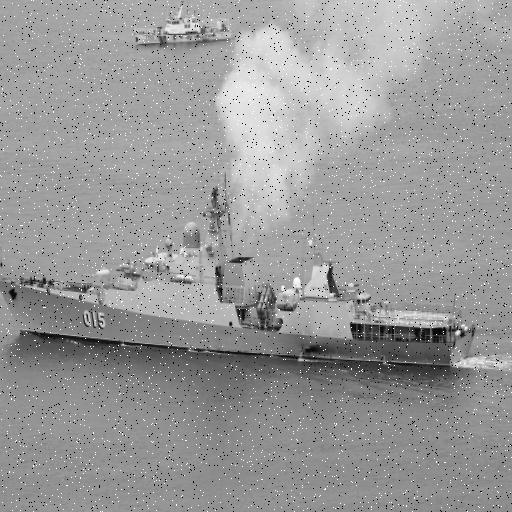Fragata: (1, 169, 477, 373)
